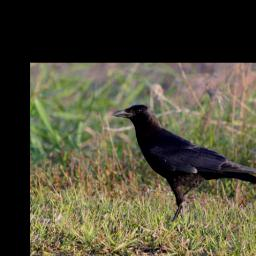Crow: (110, 103, 256, 226)
